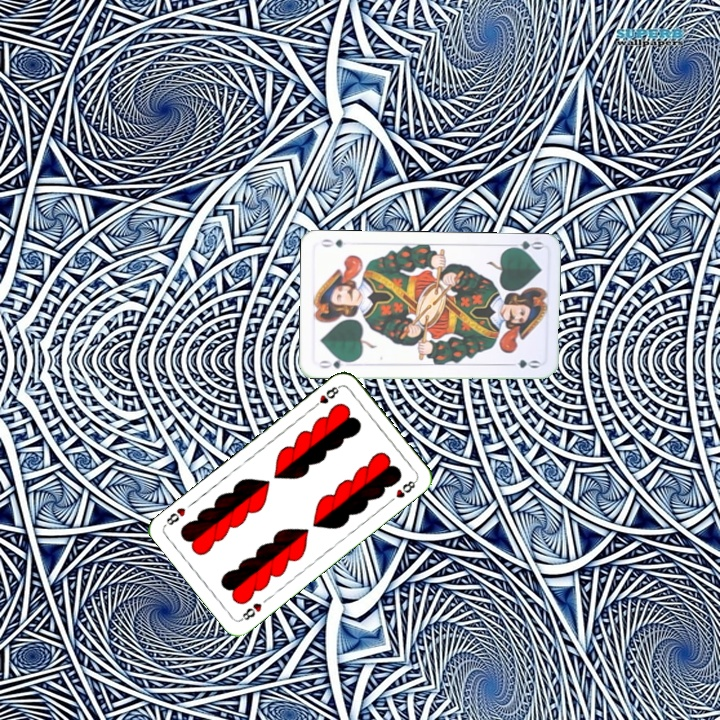GO: (504, 237, 544, 256), (315, 354, 354, 371)
H8: (308, 381, 343, 411), (237, 599, 265, 624)
